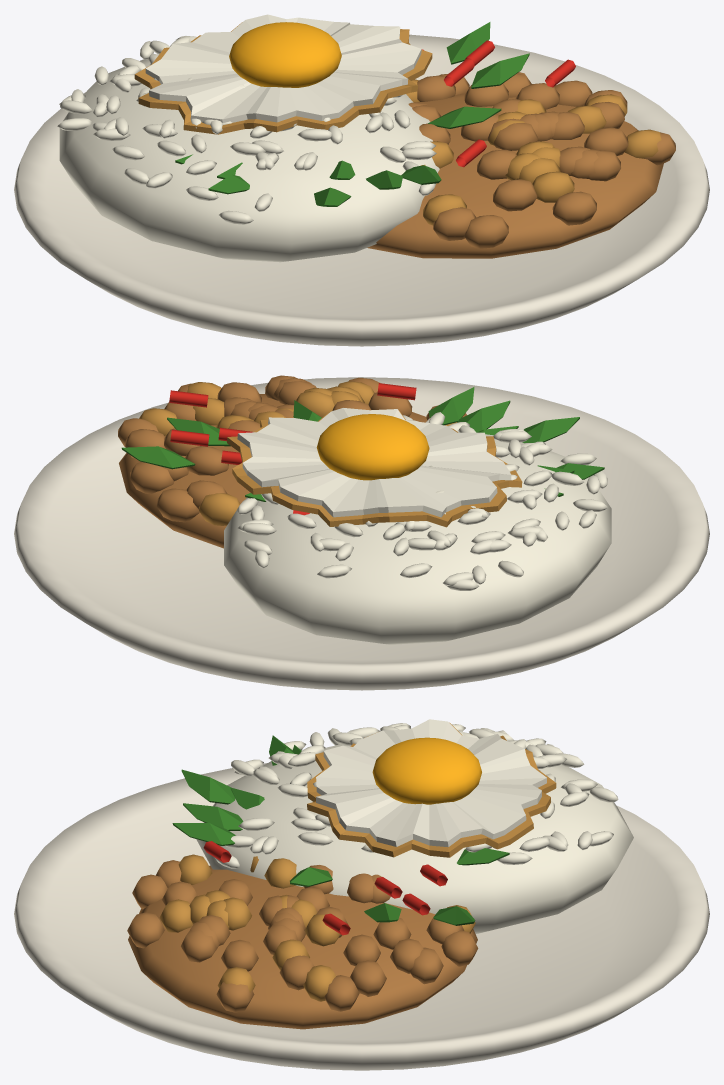
Rendered from pad-krapao.glb.
The picture shows the model from 3 angles, top to bottom: view 1: azimuth 30°, elevation 25°; view 2: azimuth 150°, elevation 25°; view 3: azimuth 270°, elevation 25°; orthographic projection.
Visible parts, largest first — view 1: rice plate, rice mound, minced basil chicken base, fried egg white, basil chicken piece, golden egg yolk, basil leaf, red chilli; view 2: rice plate, rice mound, fried egg white, minced basil chicken base, basil chicken piece, golden egg yolk, basil leaf, red chilli; view 3: rice plate, minced basil chicken base, rice mound, fried egg white, basil chicken piece, basil leaf, golden egg yolk, red chilli.
Part boxes in pixels (x1,y1,x2,y2): rice plate: [14, 34, 709, 346]; rice mound: [57, 36, 439, 262]; minced basil chicken base: [367, 72, 675, 258]; fried egg white: [145, 14, 421, 123]; basil chicken piece: [134, 22, 661, 225]; golden egg yolk: [229, 22, 341, 87]; basil leaf: [175, 22, 529, 206]; red chilli: [422, 40, 575, 167]; rice plate: [14, 377, 709, 690]; rice mound: [224, 412, 611, 644]; fried egg white: [237, 408, 511, 517]; minced basil chicken base: [118, 375, 466, 548]; basil chicken piece: [139, 381, 522, 527]; golden egg yolk: [316, 414, 429, 480]; basil leaf: [121, 387, 604, 501]; red chilli: [169, 383, 416, 515]; rice plate: [14, 763, 709, 1070]; minced basil chicken base: [127, 860, 478, 1029]; rice mound: [196, 723, 633, 933]; fried egg white: [316, 719, 546, 847]; basil chicken piece: [159, 722, 556, 1001]; basil leaf: [172, 735, 509, 925]; golden egg yolk: [372, 737, 481, 804]; red chilli: [203, 841, 447, 935].
Bounding box in the file's own units: 0.33 × 0.098 × 0.33.
